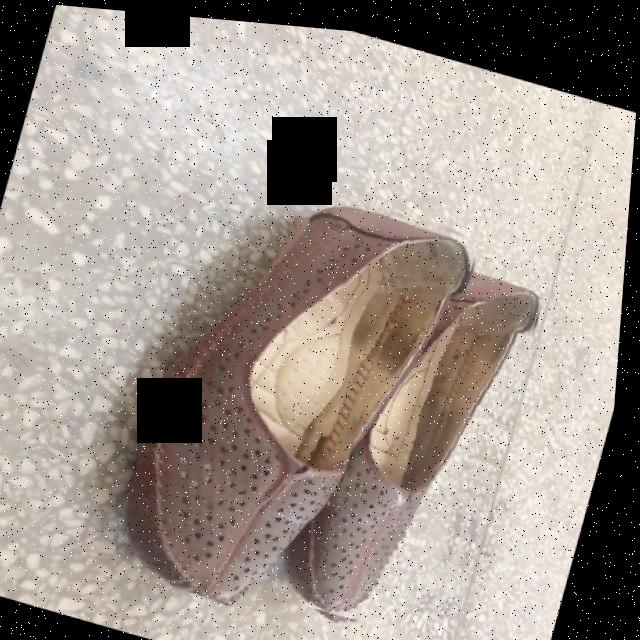shoe: (136, 196, 477, 597), (322, 273, 548, 608)
